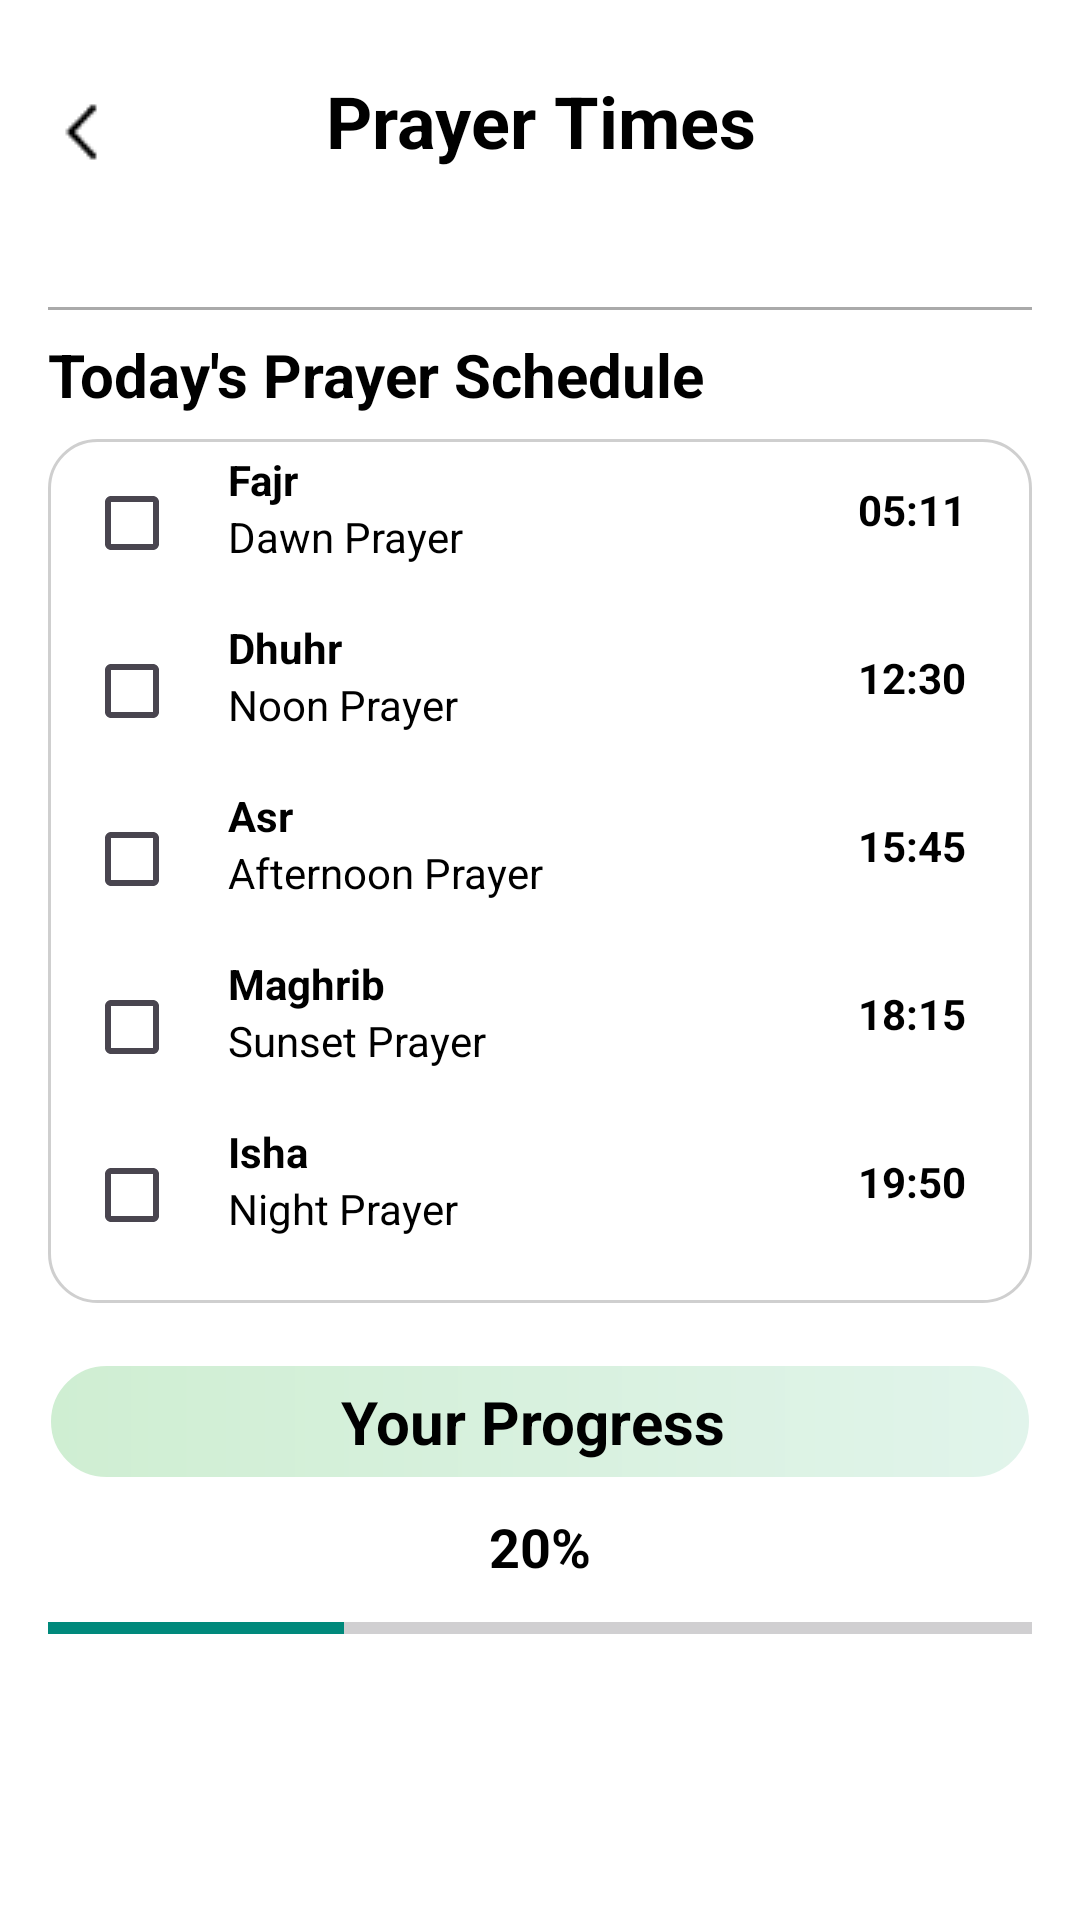

Named icons in this screenshot (1080x1920) and their bounding boxes, (x1, y1, x2, y2):
arrow_left icon: (65, 104, 97, 160)
